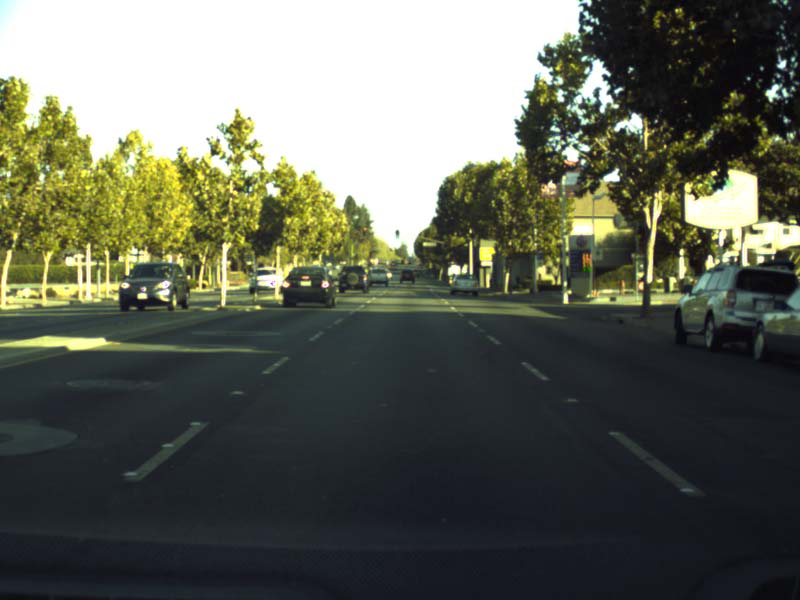Green: (395, 230, 398, 238)
Red: (362, 226, 367, 235)
